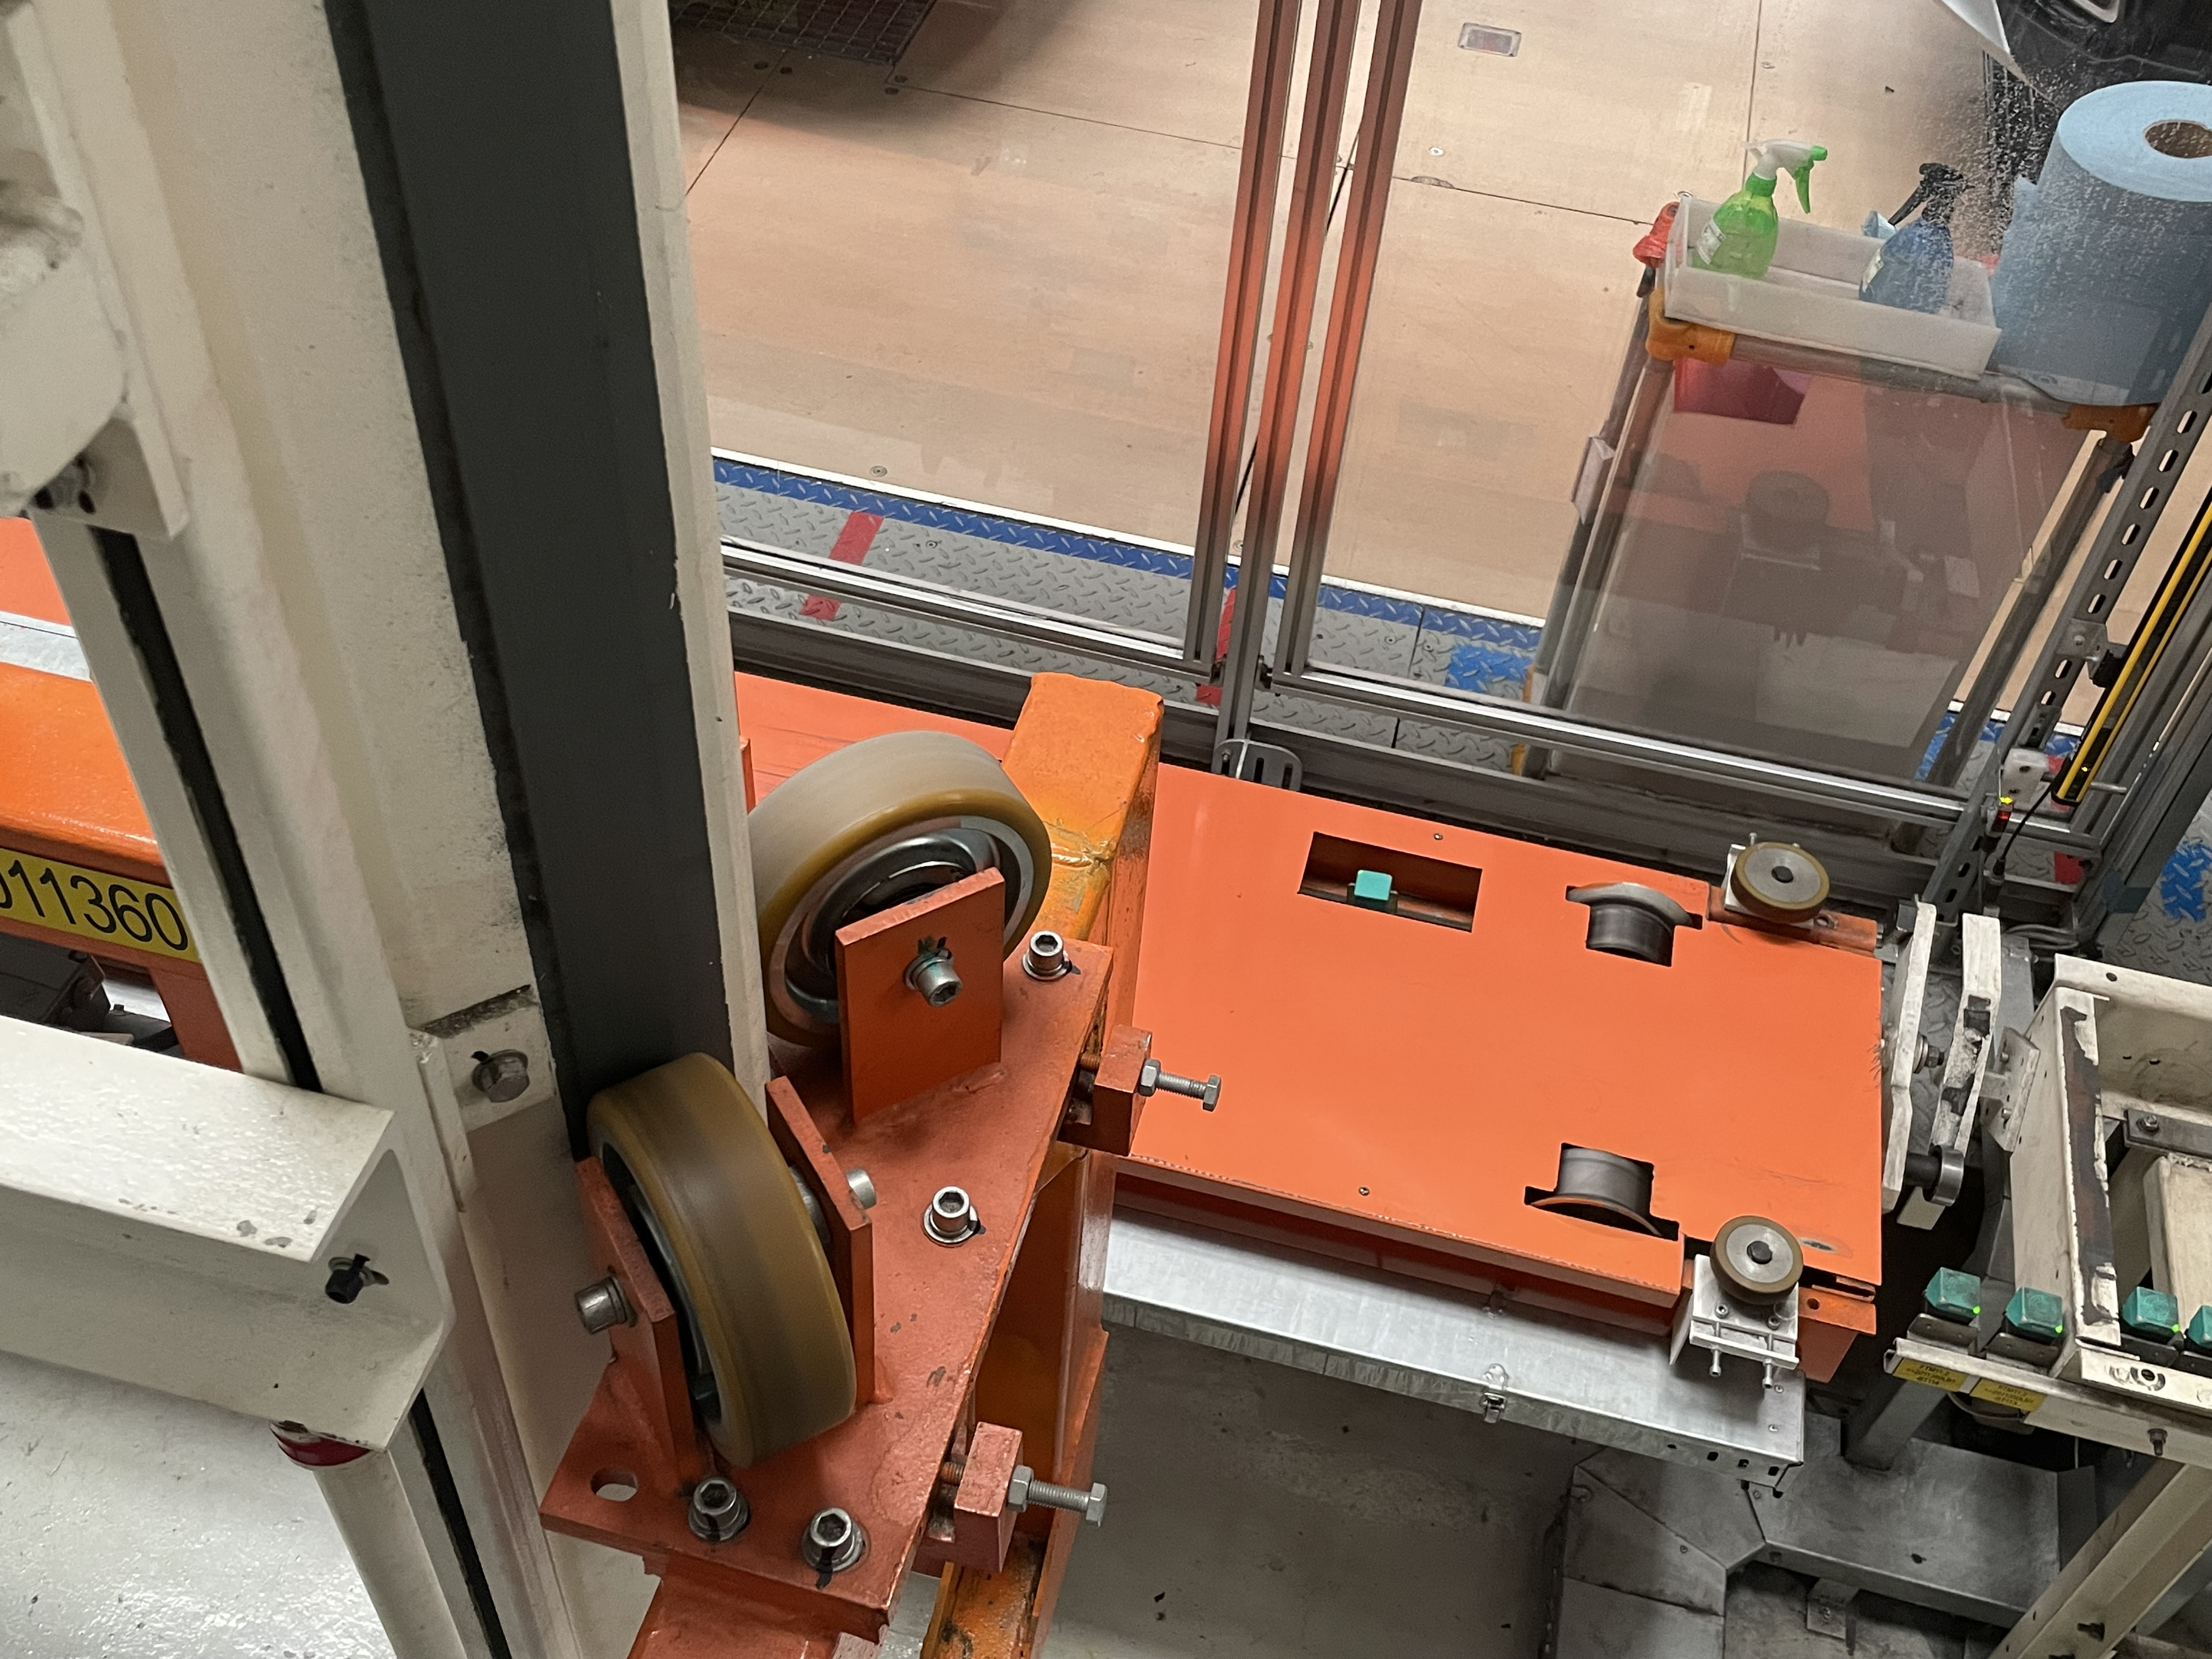good_wheel: (577, 1072, 900, 1506), (732, 680, 1066, 1072)
